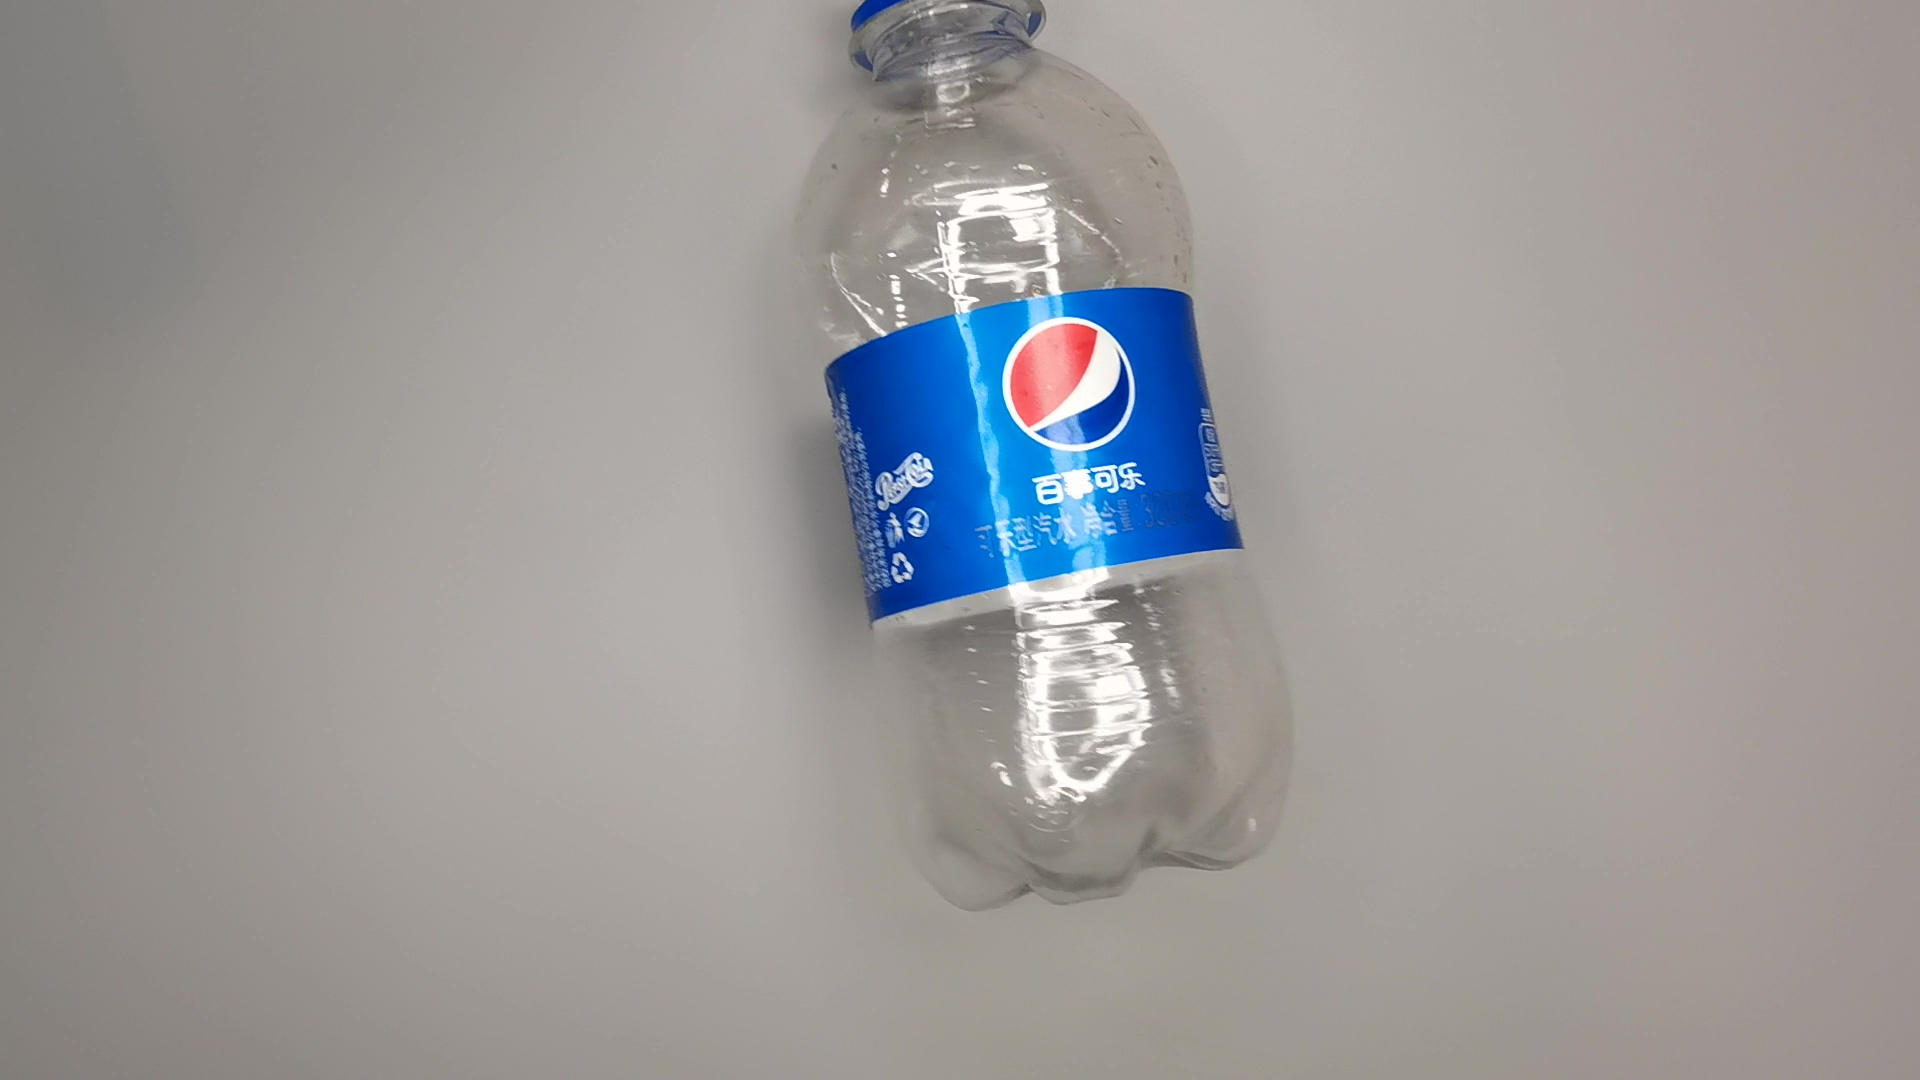bottle: (789, 1, 1300, 920)
